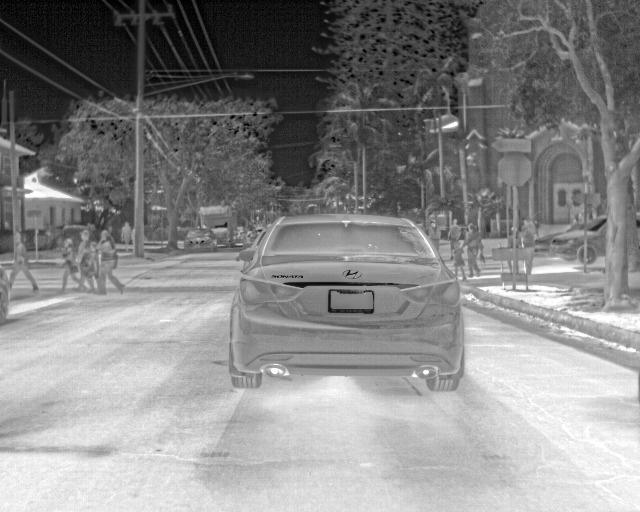bicycle: (225, 214, 466, 390), (554, 218, 610, 263), (181, 224, 216, 253), (531, 232, 559, 259)
empty: (8, 229, 42, 289), (58, 236, 87, 290), (98, 232, 122, 292), (75, 230, 98, 292), (466, 224, 486, 273), (449, 239, 468, 279), (426, 221, 442, 249), (448, 217, 463, 246)
